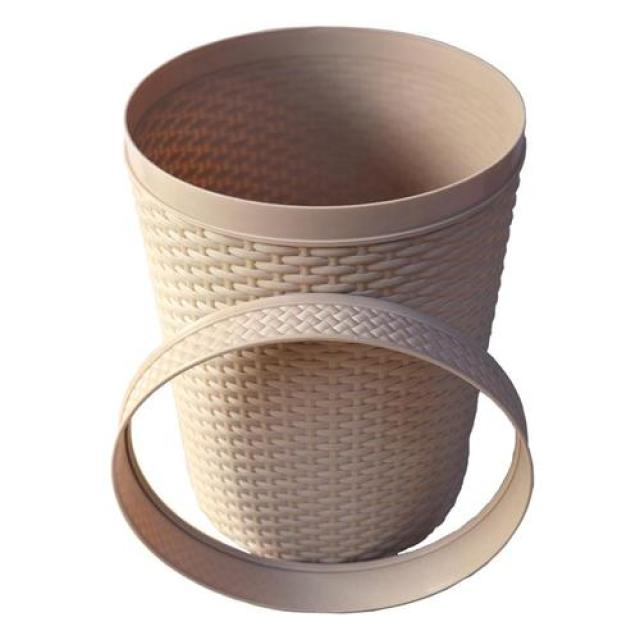dustbin: (108, 18, 542, 620)
